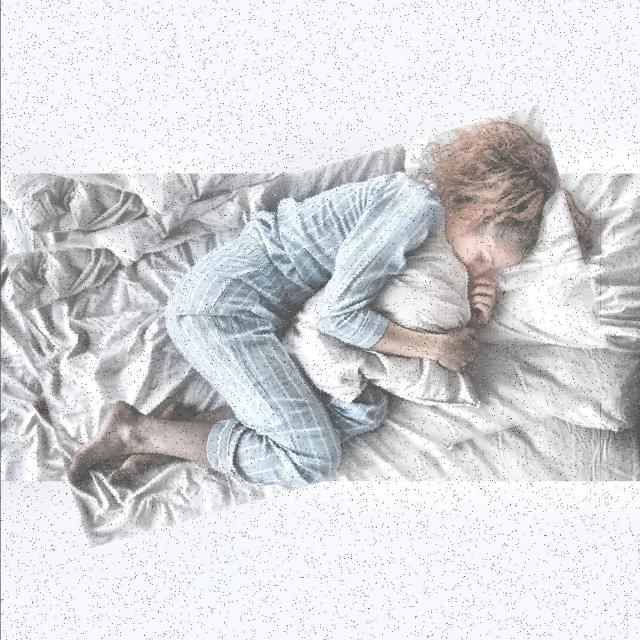Not_Supine: (67, 118, 560, 489)
